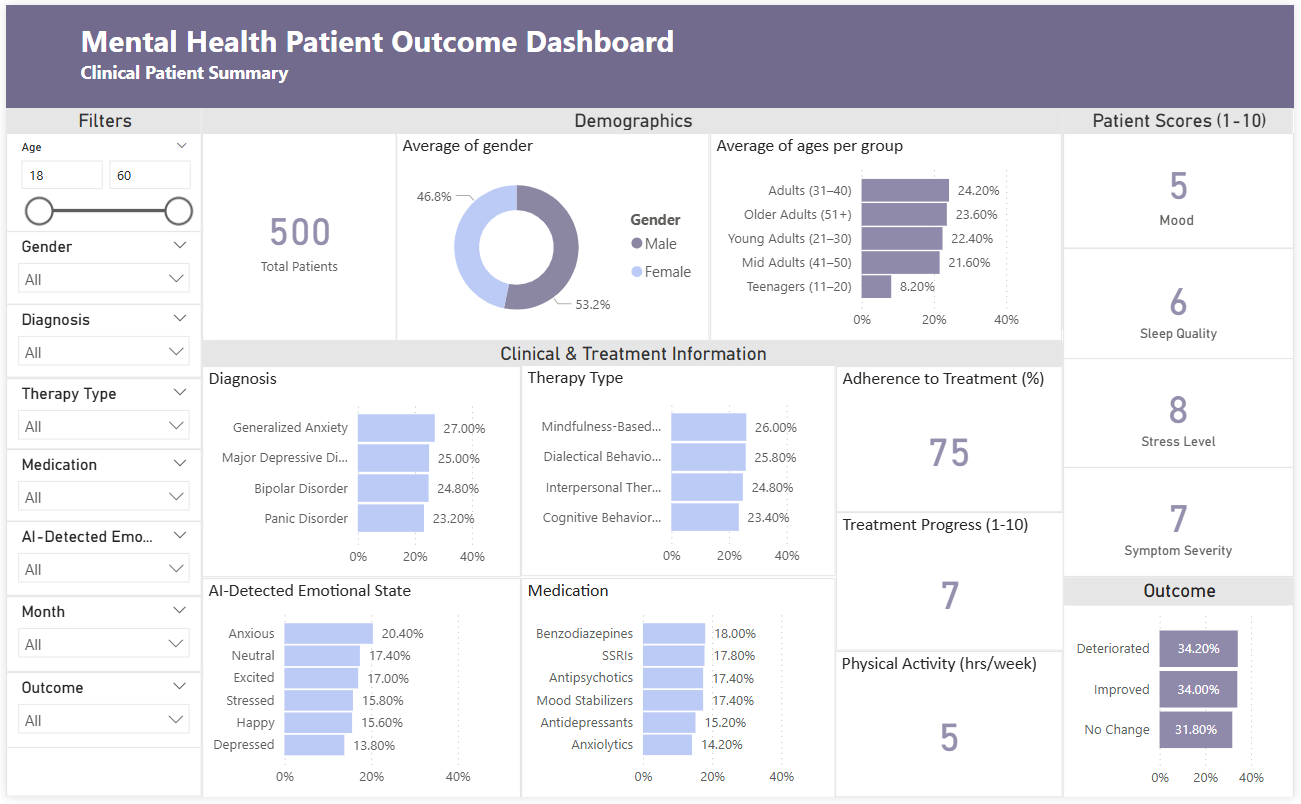

What the dashboard file says about the page in this screenshot:
{"tool":"powerbi","page":{"name":"Clinical Patient Summary","canvas":[1171,720],"ordinal":0},"visuals":[{"type":"clusteredBarChart","title":"Outcome","fields":{"Y":["Divide(Avg(mental_health_diagnosis_treatment_.Patient ID), ScopedEval(Avg(mental_health_diagnosis_treatment_.Patient ID)"],"Category":["mental_health_diagnosis_treatment_.Outcome"]},"box":[961.2,520.5,210.1,200.4],"z":0},{"type":"textbox","box":[0,0,1280.4,94],"z":1000},{"type":"textbox","box":[63,8.9,570.1,75.4],"z":2000},{"type":"textbox","title":"Filters","box":[0,94,178.2,626],"z":3000},{"type":"slicer","fields":{"Values":["mental_health_diagnosis_treatment_.Age"]},"box":[0,116.2,178.2,89.6],"z":4000},{"type":"slicer","fields":{"Values":["mental_health_diagnosis_treatment_.Gender"]},"box":[0,205.7,178.2,66.5],"z":5000},{"type":"textbox","title":"Demographics","box":[177.9,94.1,782.5,201.2],"z":6000},{"type":"textbox","title":"Clinical & Treatment Information","box":[177.9,305.6,782.5,414.6],"z":7000},{"type":"slicer","fields":{"Values":["mental_health_diagnosis_treatment_.Diagnosis"]},"box":[0,272.2,178.2,66.5],"z":8000},{"type":"clusteredBarChart","title":"Average of ages per group","fields":{"Category":["mental_health_diagnosis_treatment_.Age (groups)"],"Y":["Divide(Avg(mental_health_diagnosis_treatment_.Patient ID), ScopedEval(Avg(mental_health_diagnosis_treatment_.Patient ID)"]},"box":[640,116.4,320.5,189.1],"z":9000},{"type":"slicer","fields":{"Values":["mental_health_diagnosis_treatment_.Therapy Type"]},"box":[0,338.7,178.2,64.7],"z":10000},{"type":"slicer","fields":{"Values":["mental_health_diagnosis_treatment_.Medication"]},"box":[0,403.4,178.2,65.6],"z":11000},{"type":"card","fields":{"Values":["CountNonNull(mental_health_diagnosis_treatment_.Patient ID)"]},"box":[177.9,116.4,177,189.1],"z":12000},{"type":"clusteredBarChart","title":"Diagnosis","fields":{"Y":["Divide(Avg(mental_health_diagnosis_treatment_.Patient ID), ScopedEval(Avg(mental_health_diagnosis_treatment_.Patient ID)"],"Category":["mental_health_diagnosis_treatment_.Diagnosis"]},"box":[178.2,328.1,290,192.4],"z":13000},{"type":"clusteredBarChart","title":"Medication","fields":{"Y":["Divide(Avg(mental_health_diagnosis_treatment_.Patient ID), ScopedEval(Avg(mental_health_diagnosis_treatment_.Patient ID)"],"Category":["mental_health_diagnosis_treatment_.Medication"]},"box":[468.2,520.5,286.4,199.5],"z":14000},{"type":"clusteredBarChart","title":"AI-Detected Emotional State","fields":{"Y":["Divide(Avg(mental_health_diagnosis_treatment_.Patient ID), ScopedEval(Avg(mental_health_diagnosis_treatment_.Patient ID)"],"Category":["mental_health_diagnosis_treatment_.AI-Detected Emotional State"]},"box":[178.2,520.5,290,199.5],"z":15000},{"type":"clusteredBarChart","title":"Therapy Type","fields":{"Y":["Divide(Avg(mental_health_diagnosis_treatment_.Patient ID), ScopedEval(Avg(mental_health_diagnosis_treatment_.Patient ID)"],"Category":["mental_health_diagnosis_treatment_.Therapy Type"]},"box":[468.2,327.2,286.4,192.4],"z":16000},{"type":"textbox","title":"Patient Scores (1-10)","box":[961.2,94,209.3,426.5],"z":17000},{"type":"slicer","fields":{"Values":["mental_health_diagnosis_treatment_.AI-Detected Emotional State"]},"box":[0,469.1,178.2,68.3],"z":18000},{"type":"donutChart","title":"Average of gender","fields":{"Category":["mental_health_diagnosis_treatment_.Gender"],"Y":["Divide(Count(mental_health_diagnosis_treatment_.Patient ID), ScopedEval(Count(mental_health_diagnosis_treatment_.Patient"]},"box":[354.9,116.4,285.1,189.1],"z":19000},{"type":"card","title":"Adherence to Treatment (%)","fields":{"Values":["Avg(mental_health_diagnosis_treatment_.Adherence to Treatment (%))"]},"box":[754.6,328.1,205.7,133],"z":20000},{"type":"card","fields":{"Values":["Avg(mental_health_diagnosis_treatment_.Mood Score (1-10))"]},"box":[961.2,116.2,210.1,105],"z":21000},{"type":"card","title":"Physical Activity (hrs/week)","fields":{"Values":["Avg(mental_health_diagnosis_treatment_.Physical Activity (hrs/week))"]},"box":[753.7,587,206.6,133],"z":22000},{"type":"slicer","fields":{"Values":["mental_health_diagnosis_treatment_.Treatment Start Date.Variation.Date Hierarchy.Month"]},"box":[0,537.5,177.9,68.9],"z":23000},{"type":"slicer","fields":{"Values":["mental_health_diagnosis_treatment_.Outcome"]},"box":[0,606.5,177.9,68.9],"z":24000},{"type":"card","fields":{"Values":["Avg(mental_health_diagnosis_treatment_.Sleep Quality (1-10))"]},"box":[961.2,220.8,210.1,104.6],"z":25000},{"type":"card","fields":{"Values":["Avg(mental_health_diagnosis_treatment_.Stress Level (1-10))"]},"box":[961.2,321,210.1,100.2],"z":26000},{"type":"card","fields":{"Values":["Avg(mental_health_diagnosis_treatment_.Symptom Severity (1-10))"]},"box":[961.2,420.3,210.1,100.2],"z":27000},{"type":"card","title":"Treatment Progress (1-10)","fields":{"Values":["Avg(mental_health_diagnosis_treatment_.Treatment Progress (1-10))"]},"box":[754.6,461.1,206.6,125.9],"z":28000}]}

Visuals, with their boxes in screenshot pixels (x1, y1, x2, y2), scaled from the page's 1171x720 canvas onto the 1301x804 screenshot:
"Outcome" clusteredBarChart: (x1=1068, y1=581, x2=1300, y2=803)
textbox: (x1=0, y1=0, x2=1300, y2=105)
textbox: (x1=70, y1=10, x2=703, y2=94)
"Filters" textbox: (x1=0, y1=105, x2=198, y2=803)
slicer - mental_health_diagnosis_treatment_.Age: (x1=0, y1=130, x2=198, y2=230)
slicer - mental_health_diagnosis_treatment_.Gender: (x1=0, y1=230, x2=198, y2=304)
"Demographics" textbox: (x1=198, y1=105, x2=1067, y2=330)
"Clinical & Treatment Information" textbox: (x1=198, y1=341, x2=1067, y2=803)
slicer - mental_health_diagnosis_treatment_.Diagnosis: (x1=0, y1=304, x2=198, y2=378)
"Average of ages per group" clusteredBarChart: (x1=711, y1=130, x2=1067, y2=341)
slicer - mental_health_diagnosis_treatment_.Therapy Type: (x1=0, y1=378, x2=198, y2=450)
slicer - mental_health_diagnosis_treatment_.Medication: (x1=0, y1=450, x2=198, y2=524)
card - CountNonNull(mental_health_diagnosis_treatment_.Patient ID): (x1=198, y1=130, x2=394, y2=341)
"Diagnosis" clusteredBarChart: (x1=198, y1=366, x2=520, y2=581)
"Medication" clusteredBarChart: (x1=520, y1=581, x2=838, y2=803)
"AI-Detected Emotional State" clusteredBarChart: (x1=198, y1=581, x2=520, y2=803)
"Therapy Type" clusteredBarChart: (x1=520, y1=365, x2=838, y2=580)
"Patient Scores (1-10)" textbox: (x1=1068, y1=105, x2=1300, y2=581)
slicer - mental_health_diagnosis_treatment_.AI-Detected Emotional State: (x1=0, y1=524, x2=198, y2=600)
"Average of gender" donutChart: (x1=394, y1=130, x2=711, y2=341)
"Adherence to Treatment (%)" card: (x1=838, y1=366, x2=1067, y2=515)
card - Avg(mental_health_diagnosis_treatment_.Mood Score (1-10)): (x1=1068, y1=130, x2=1300, y2=247)
"Physical Activity (hrs/week)" card: (x1=837, y1=655, x2=1067, y2=803)
slicer - mental_health_diagnosis_treatment_.Treatment Start Date.Variation.Date Hierarchy.Month: (x1=0, y1=600, x2=198, y2=677)
slicer - mental_health_diagnosis_treatment_.Outcome: (x1=0, y1=677, x2=198, y2=754)
card - Avg(mental_health_diagnosis_treatment_.Sleep Quality (1-10)): (x1=1068, y1=247, x2=1300, y2=363)
card - Avg(mental_health_diagnosis_treatment_.Stress Level (1-10)): (x1=1068, y1=358, x2=1300, y2=470)
card - Avg(mental_health_diagnosis_treatment_.Symptom Severity (1-10)): (x1=1068, y1=469, x2=1300, y2=581)
"Treatment Progress (1-10)" card: (x1=838, y1=515, x2=1068, y2=655)
